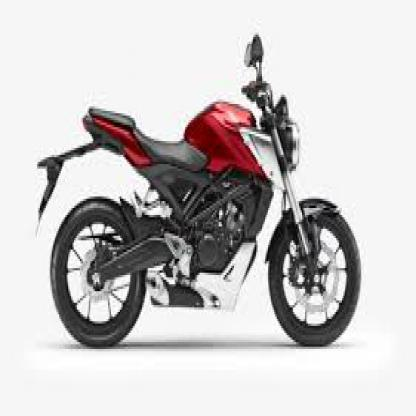Motorcycle: (33, 39, 363, 357)
